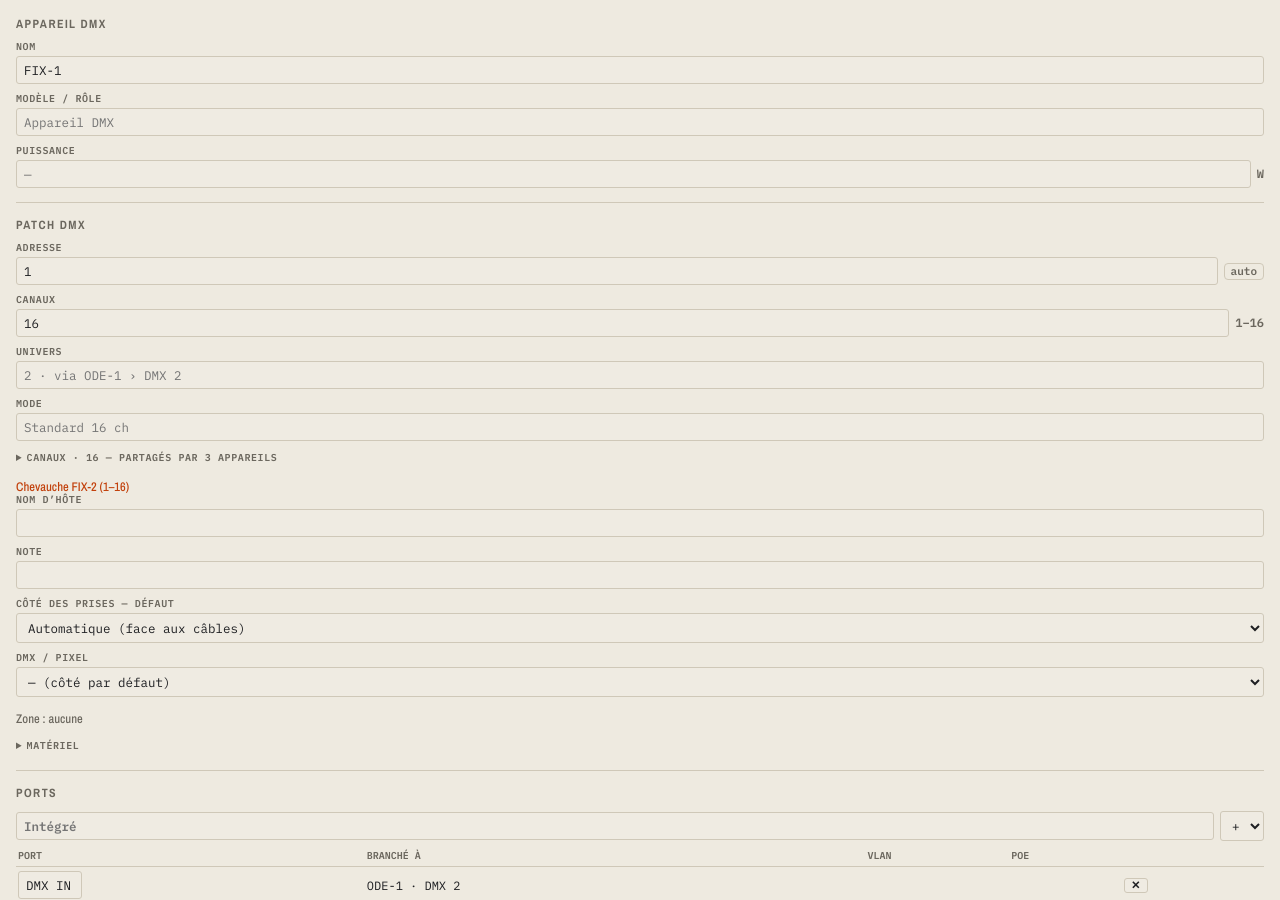
bloc Patch DMX › tape une adresse et affiche la plage
The width and height of the screenshot is (1280, 900).
Replace the text in the field named "Adresse DMX" with "33" at (617, 271), box [16,257,1218,285]
Then press Enter
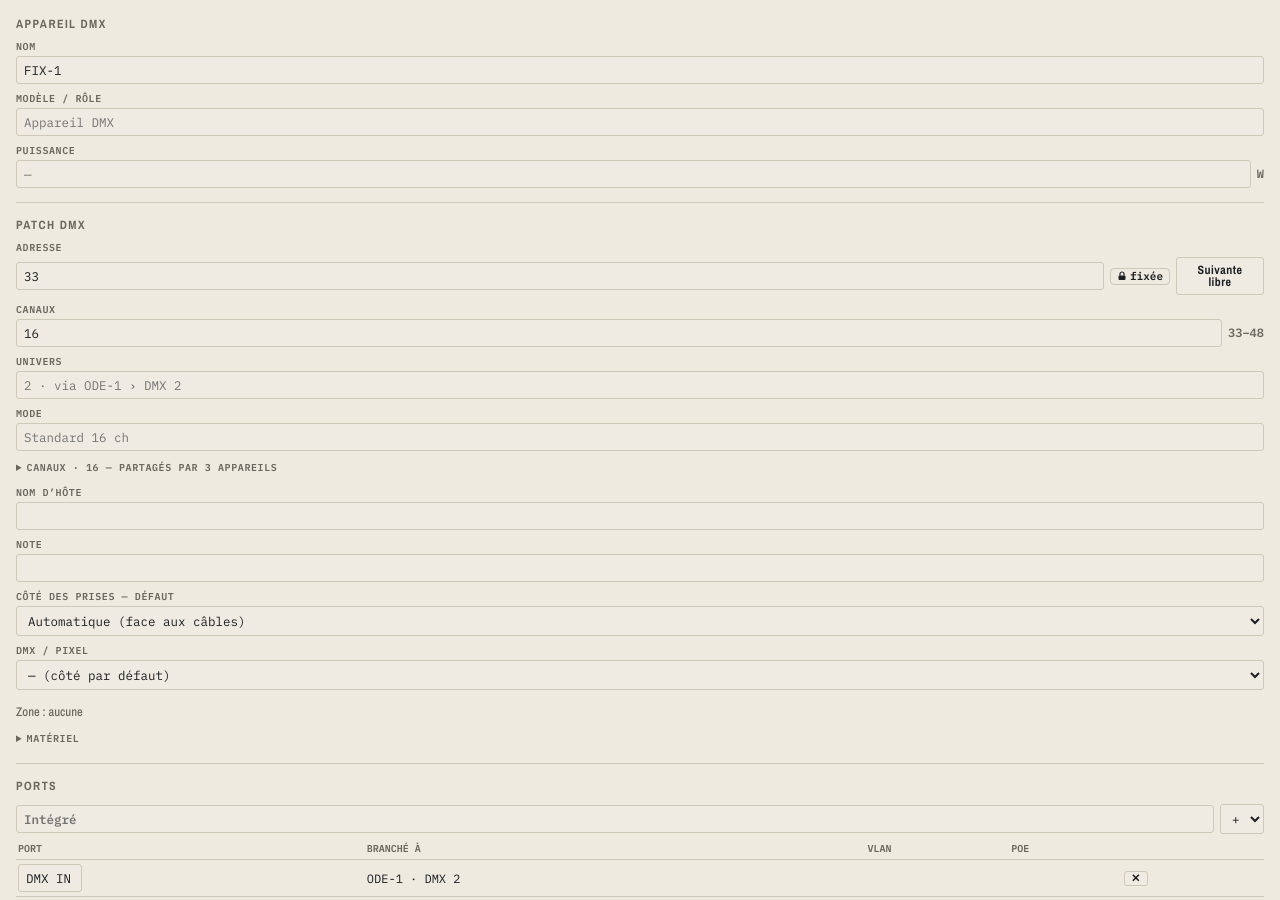
Result: the text "33–48" is shown at [1228,327,1264,339]
